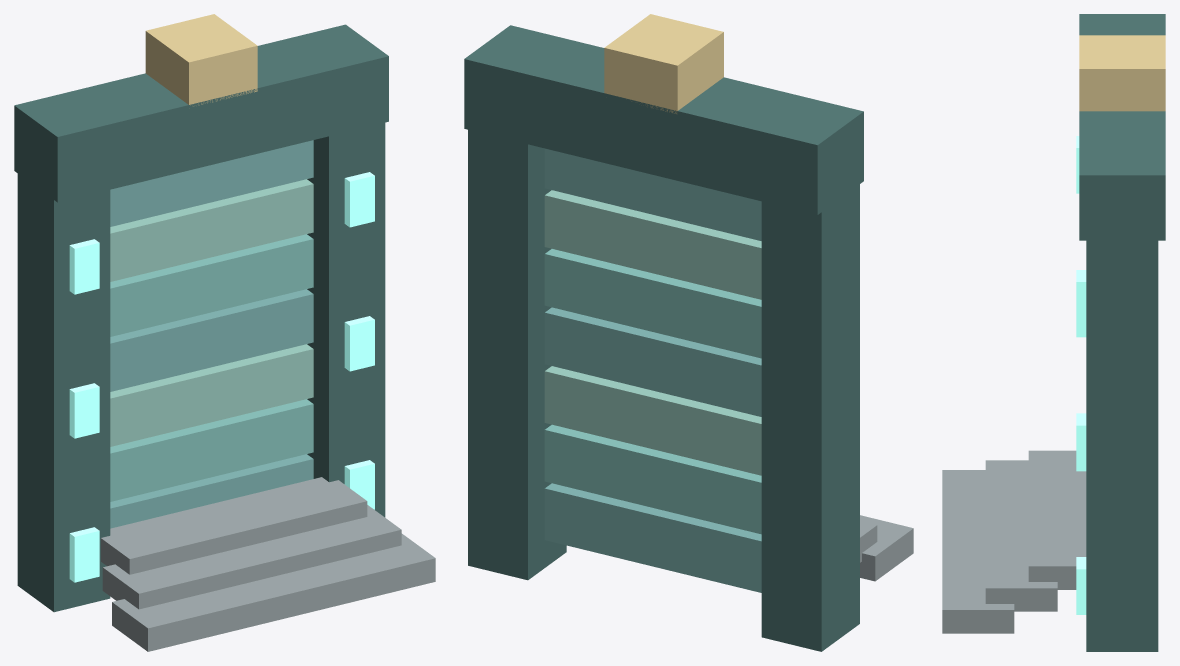
The model's file is contact_portal.glb.
The picture shows the model from 3 angles, left to right: view 1: azimuth 30°, elevation 25°; view 2: azimuth 150°, elevation 25°; view 3: azimuth 270°, elevation 25°; orthographic projection. The views are drawn at different scales.
Parts seen in each view (by area): view 1: portal_light (×7), portal_pillar (×2), portal_step (×3), portal_lintel, portal_inlay (×6), portal_crown; view 2: portal_light (×7), portal_pillar (×2), portal_lintel, portal_crown, portal_step; view 3: portal_pillar, portal_step (×3), portal_lintel, portal_crown, portal_inlay (×3).
Boxes of the visible parts, x1,y1,x2,y2 form: portal_light (×7): (110,140,313,528); portal_pillar (×2): (17,122,385,612); portal_step (×3): (101,477,435,651); portal_lintel: (14,24,388,202); portal_inlay (×6): (69,172,374,582); portal_crown: (145,14,257,106); portal_light (×7): (544,148,761,592); portal_pillar (×2): (468,130,859,651); portal_lintel: (464,25,863,214); portal_crown: (604,14,723,113); portal_step: (860,515,913,581); portal_pillar: (1086,221,1158,651); portal_step (×3): (942,450,1086,633); portal_lintel: (1079,14,1165,240); portal_crown: (1079,35,1165,111); portal_inlay (×3): (1076,270,1086,614).
Bounding box in the file's own units: 2.65 × 3.97 × 1.55.
